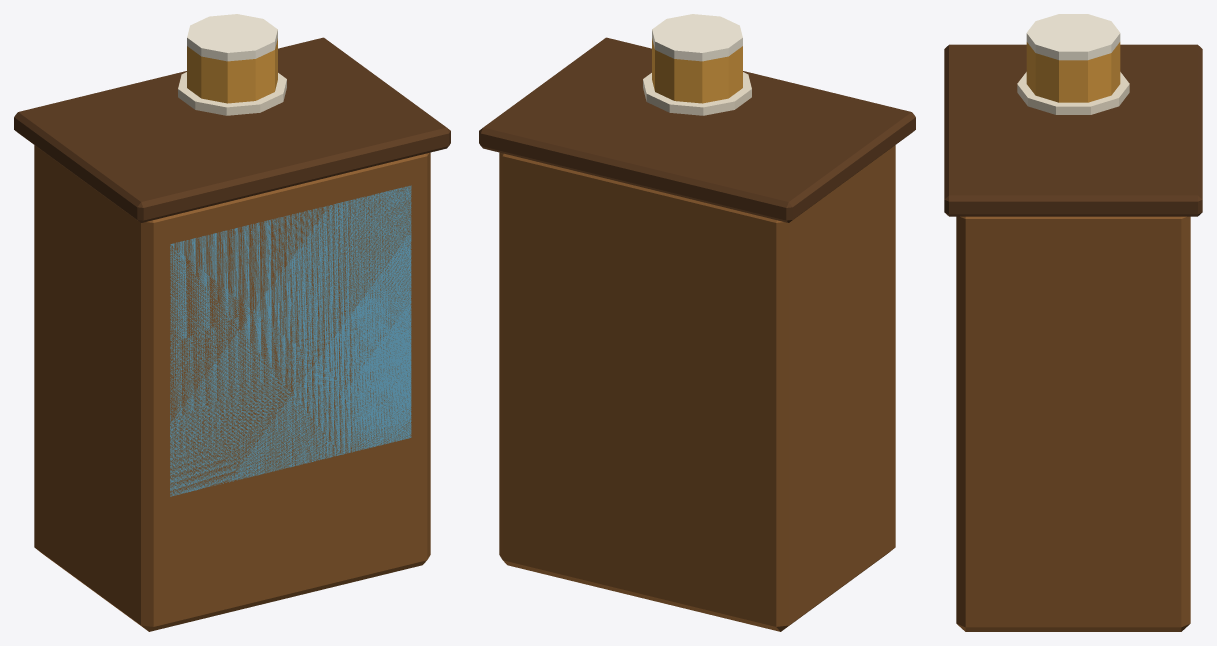
Rendered from PR_Station_Tatli_T1.fbx.
The picture shows the model from 3 angles, left to right: view 1: azimuth 30°, elevation 25°; view 2: azimuth 150°, elevation 25°; view 3: azimuth 270°, elevation 25°; orthographic projection.
Visible parts, largest first — view 1: PR_Station_Tatli_T1; view 2: PR_Station_Tatli_T1; view 3: PR_Station_Tatli_T1.
Part boxes in pixels (x1,y1,x2,y2): PR_Station_Tatli_T1: (14,14,450,631); PR_Station_Tatli_T1: (479,14,915,631); PR_Station_Tatli_T1: (944,14,1202,631).
Bounding box in the file's own units: 0.78 × 1.25 × 0.55.
